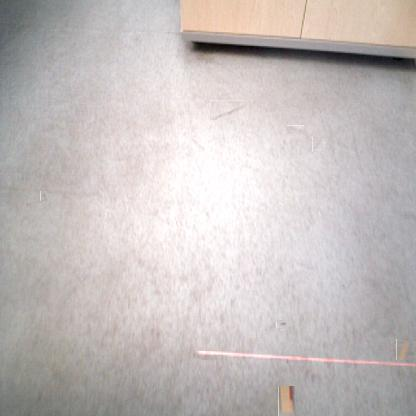dirty: (278, 386, 295, 416), (395, 340, 415, 359)
mark: (210, 100, 248, 120), (190, 136, 205, 152), (311, 138, 325, 151), (286, 125, 304, 134), (277, 321, 286, 330), (40, 191, 47, 201)
